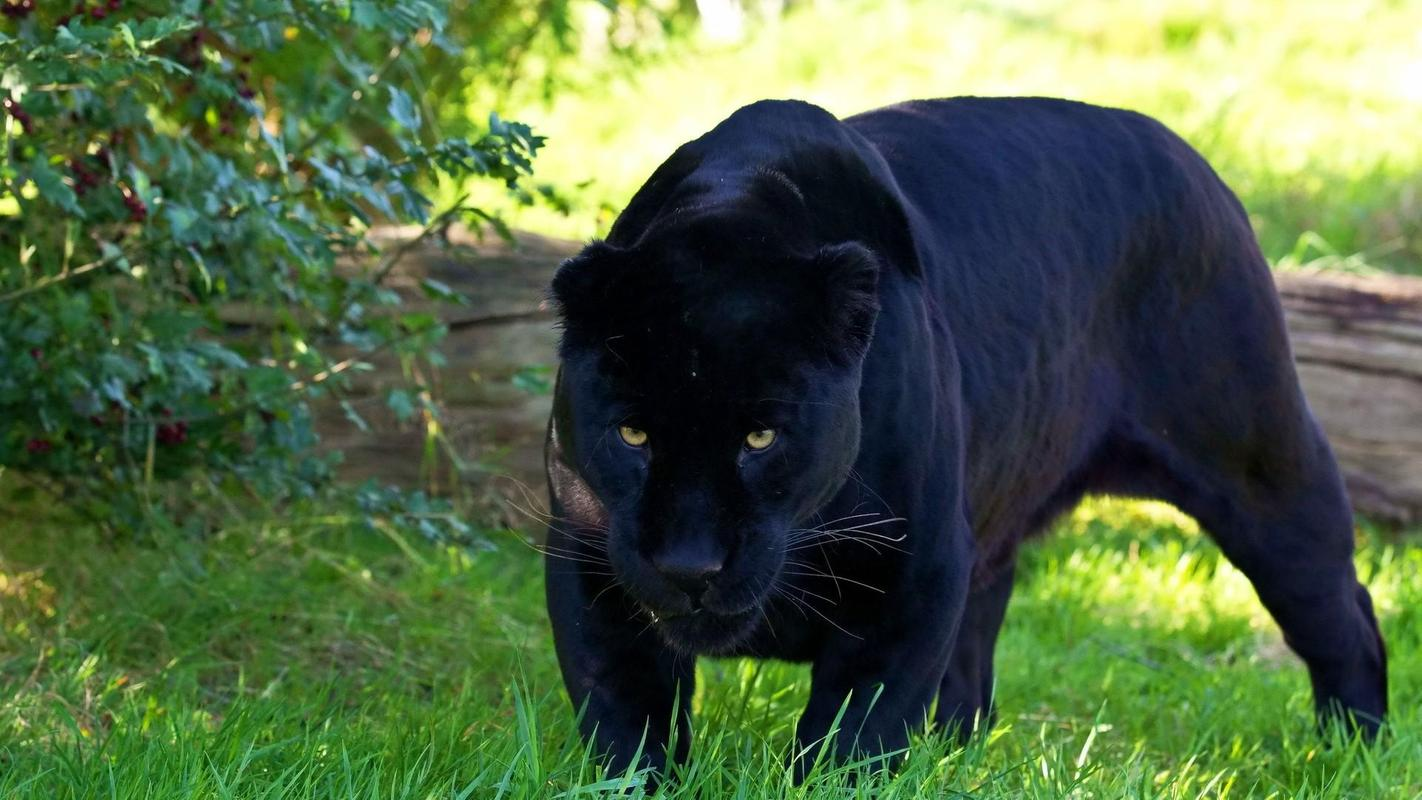panther: (492, 227, 911, 690)
